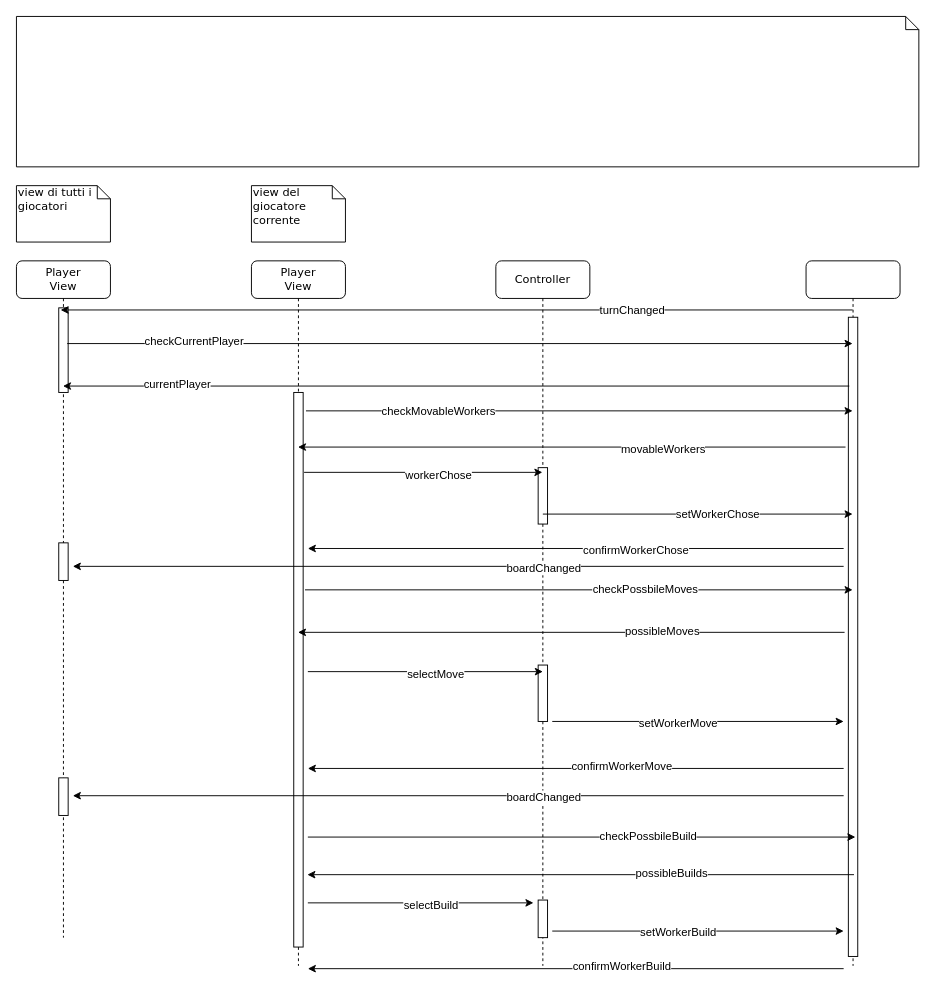
The diagram is 935 pixels wide and 993 high, and some of its shapes have lost their labels. Here are the shapes that lost their labels. From the top down, the box of each, then its label:
(16, 16, 919, 167): TURNO DI GIOCO
(805, 260, 900, 966): Model
